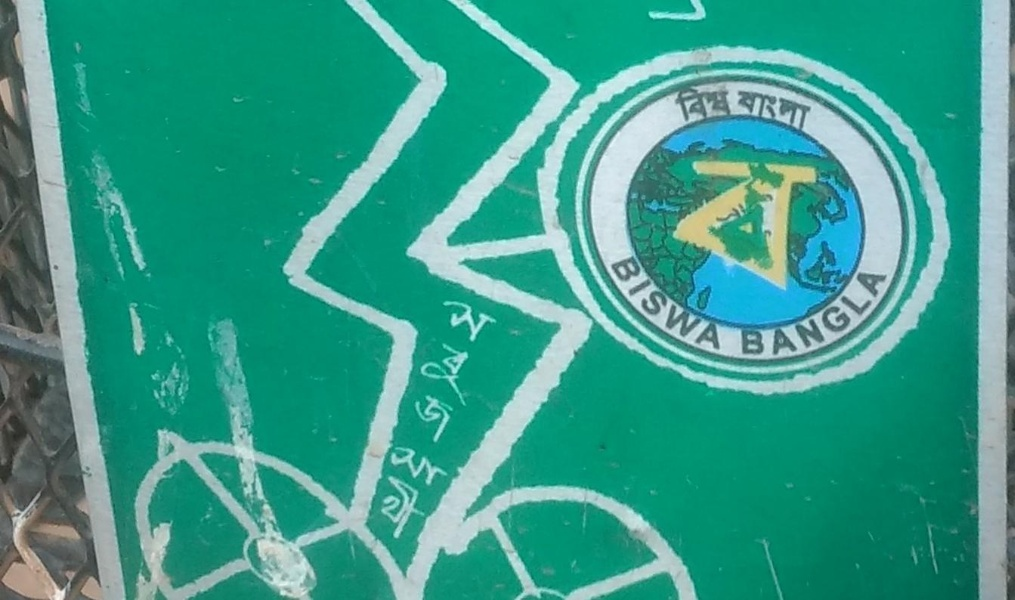text: (449, 285, 464, 453), (465, 285, 480, 453), (481, 285, 496, 453), (497, 285, 510, 453), (673, 154, 688, 295), (689, 154, 704, 295), (705, 154, 720, 295), (721, 154, 736, 295), (737, 154, 752, 295), (753, 154, 768, 295), (769, 154, 784, 295), (785, 154, 800, 295), (801, 154, 816, 295), (641, 251, 656, 369), (657, 251, 672, 369), (673, 251, 688, 369), (689, 251, 704, 369), (705, 251, 720, 369), (737, 259, 752, 372), (753, 259, 768, 372), (769, 259, 784, 372), (785, 259, 800, 372), (801, 259, 816, 372), (817, 259, 832, 372), (833, 259, 848, 372), (849, 259, 864, 372), (865, 259, 880, 372), (881, 259, 896, 372), (401, 437, 416, 546), (417, 437, 432, 546), (433, 437, 448, 546), (721, 251, 730, 369), (391, 437, 400, 546), (632, 251, 640, 369), (897, 259, 904, 372), (673, 82, 688, 129), (689, 82, 704, 129), (705, 82, 720, 129), (721, 82, 736, 129), (737, 86, 752, 133), (753, 86, 768, 133), (769, 86, 784, 133), (785, 86, 800, 133), (801, 86, 812, 133), (449, 437, 453, 546), (817, 154, 820, 295), (446, 285, 448, 453), (670, 154, 672, 295), (734, 259, 736, 372), (737, 82, 740, 129)
